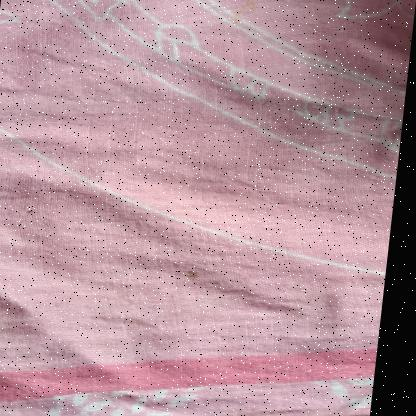spot: (238, 0, 259, 16), (187, 270, 206, 286), (228, 12, 242, 26)
